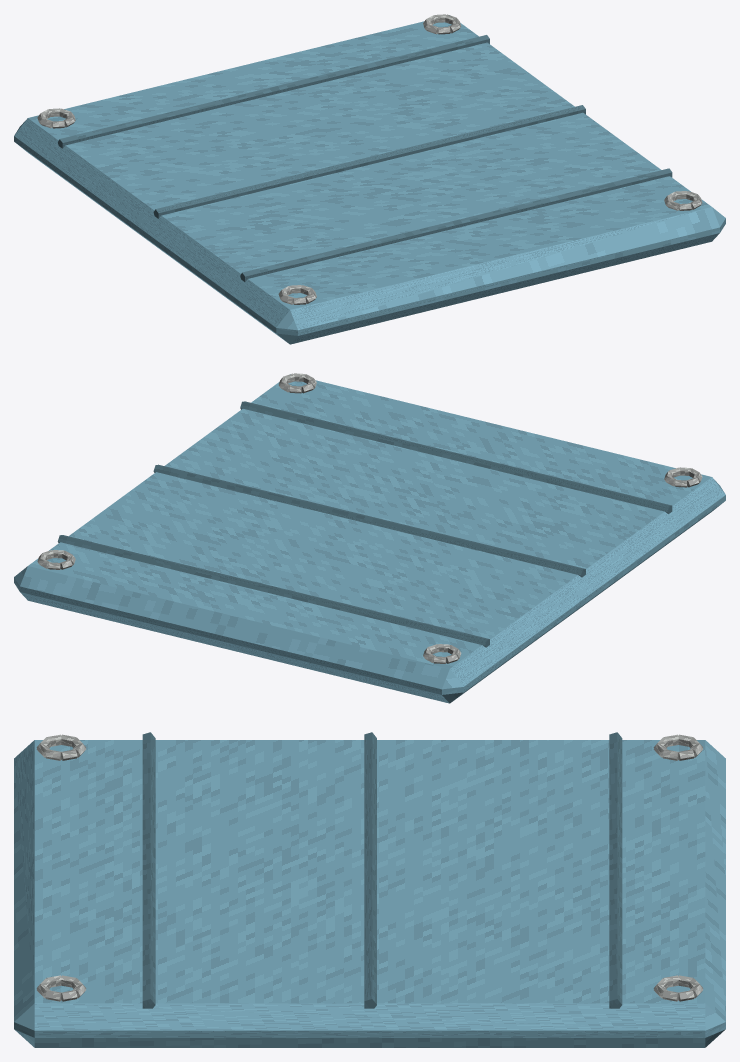
File: tarp.glb
The picture shows the model from 3 angles, top to bottom: view 1: azimuth 30°, elevation 25°; view 2: azimuth 150°, elevation 25°; view 3: azimuth 270°, elevation 25°; orthographic projection. The views are drawn at different scales.
Parts seen in each view (by area): view 1: block_folded textile, block_sewn fold 0 (×3); view 2: block_folded textile, block_sewn fold 0 (×3); view 3: block_folded textile, block_sewn fold 0 (×3).
Part boxes in pixels (<box>): block_folded textile: <box>14,15,725,344</box>; block_sewn fold 0 (×3): <box>58,35,672,281</box>; block_folded textile: <box>14,374,725,703</box>; block_sewn fold 0 (×3): <box>57,401,672,647</box>; block_folded textile: <box>14,740,725,1047</box>; block_sewn fold 0 (×3): <box>142,732,622,1008</box>.
Bounding box in the file's own units: 0.3998 × 0.0346 × 0.4284.
Materials: 1 (1 with a texture image).
